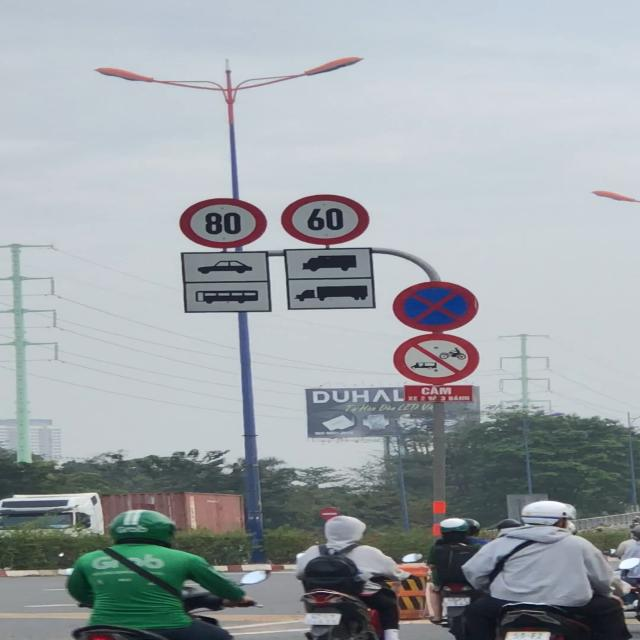Bien bao cam dung xe va do xe: (391, 280, 485, 334)
Bien bao toc do toi da cho phep: (279, 194, 375, 245), (178, 198, 272, 249)
